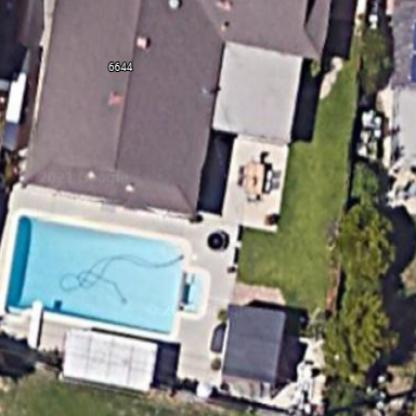pool: (2, 184, 218, 350)
